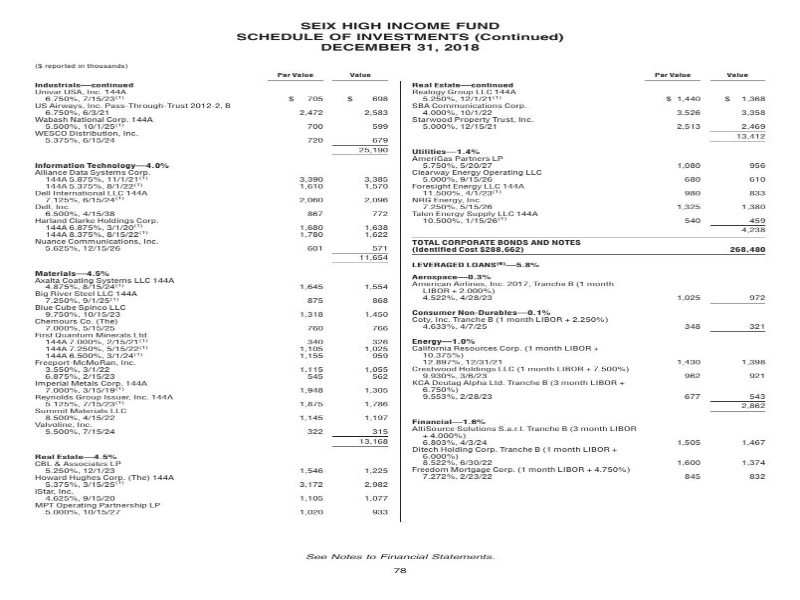table: (28, 58, 409, 534), (392, 69, 786, 508)
